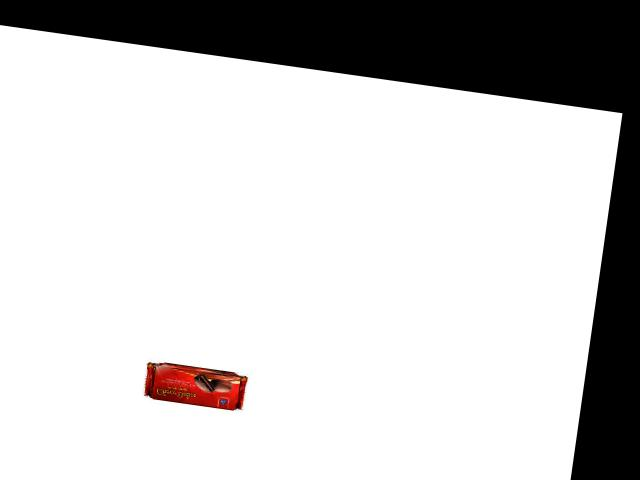chocolate: (141, 350, 251, 412)
